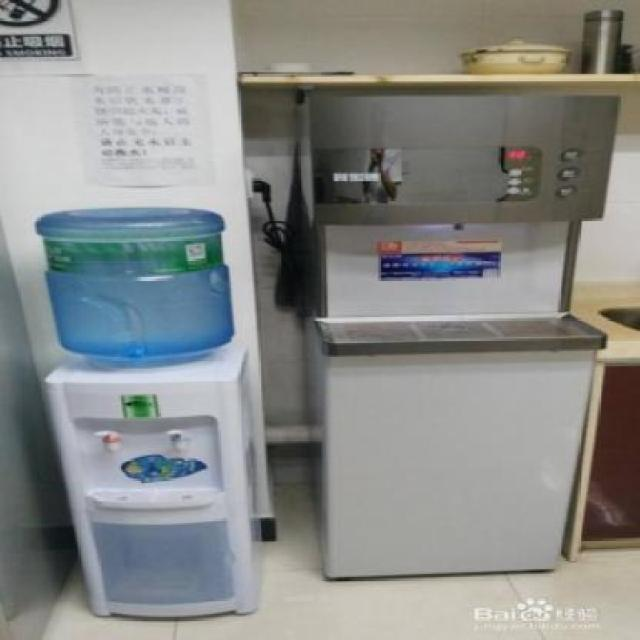cooler: (295, 86, 628, 582), (32, 204, 262, 624)
